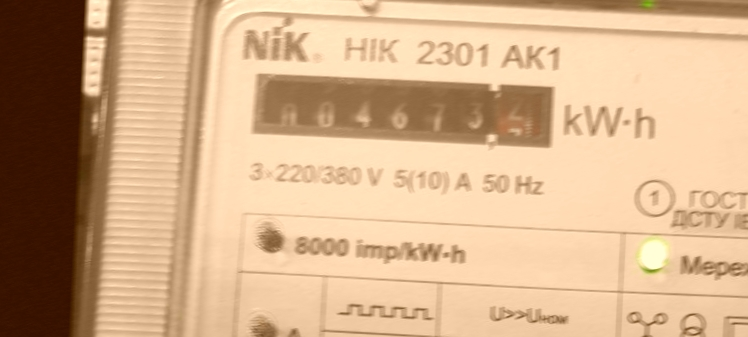0: (277, 95, 298, 126), (315, 95, 334, 126)
2: (505, 88, 526, 121)
3: (465, 95, 484, 130)
4: (353, 92, 373, 128)
6: (387, 94, 410, 129)
7: (425, 96, 449, 134)
screen: (246, 64, 559, 155)
